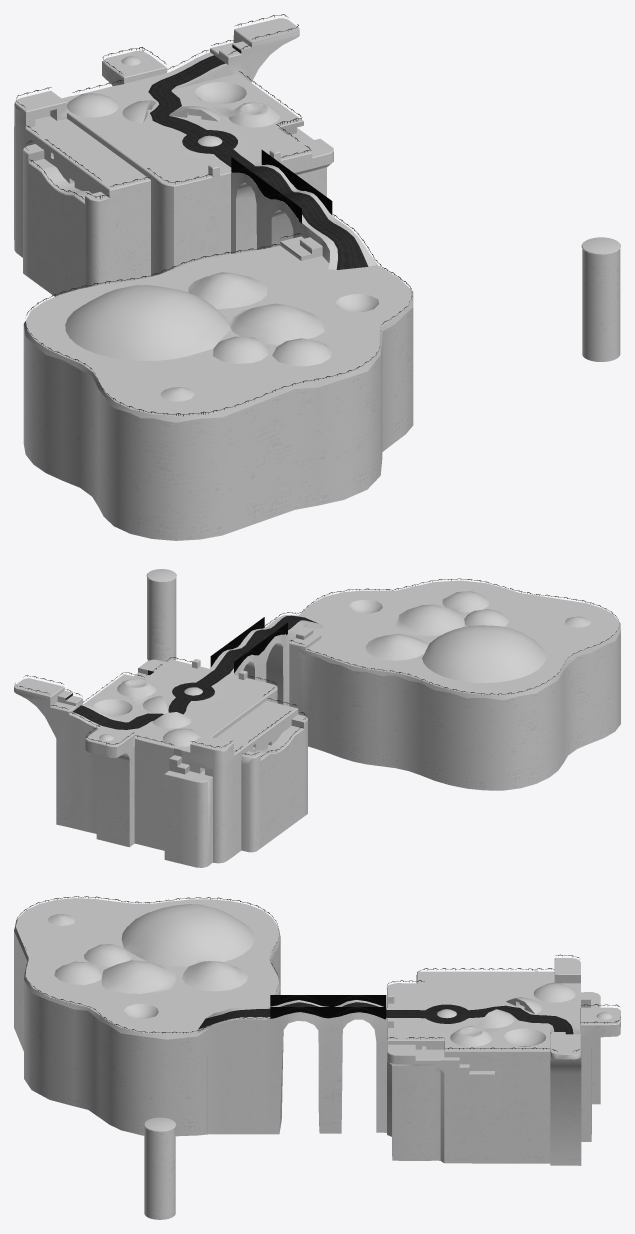
The model's file is level.fbx.
3 renders of one model, top to bottom at view 1: azimuth 30°, elevation 25°; view 2: azimuth 150°, elevation 25°; view 3: azimuth 270°, elevation 25°, orthographic. The views are drawn at different scales.
Visible parts, largest first — view 1: Circle, Plane.001, Plane.002, Plane; view 2: Circle, Plane.001, Plane, Plane.002; view 3: Circle, Plane.001, Plane, Plane.002.
Part boxes in pixels (<box>): Circle: <box>14,18,620,540</box>; Plane.001: <box>231,150,332,223</box>; Plane.002: <box>16,14,311,199</box>; Plane: <box>25,214,412,416</box>; Circle: <box>14,569,620,867</box>; Plane.001: <box>210,617,287,672</box>; Plane: <box>265,578,618,694</box>; Plane.002: <box>15,657,305,756</box>; Circle: <box>14,898,620,1219</box>; Plane.001: <box>270,995,386,1019</box>; Plane: <box>17,896,279,1033</box>; Plane.002: <box>387,954,620,1051</box>.
Size of the model in its own units: 2091 by 614 by 2405.
